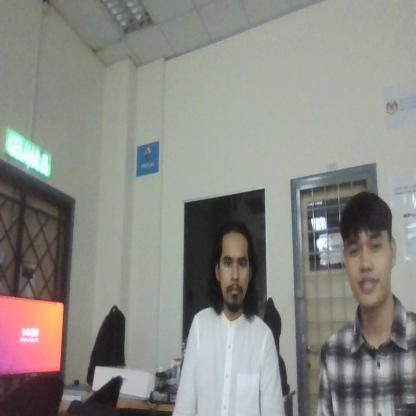Open-Eyes: (345, 227, 386, 264), (219, 245, 250, 272)
